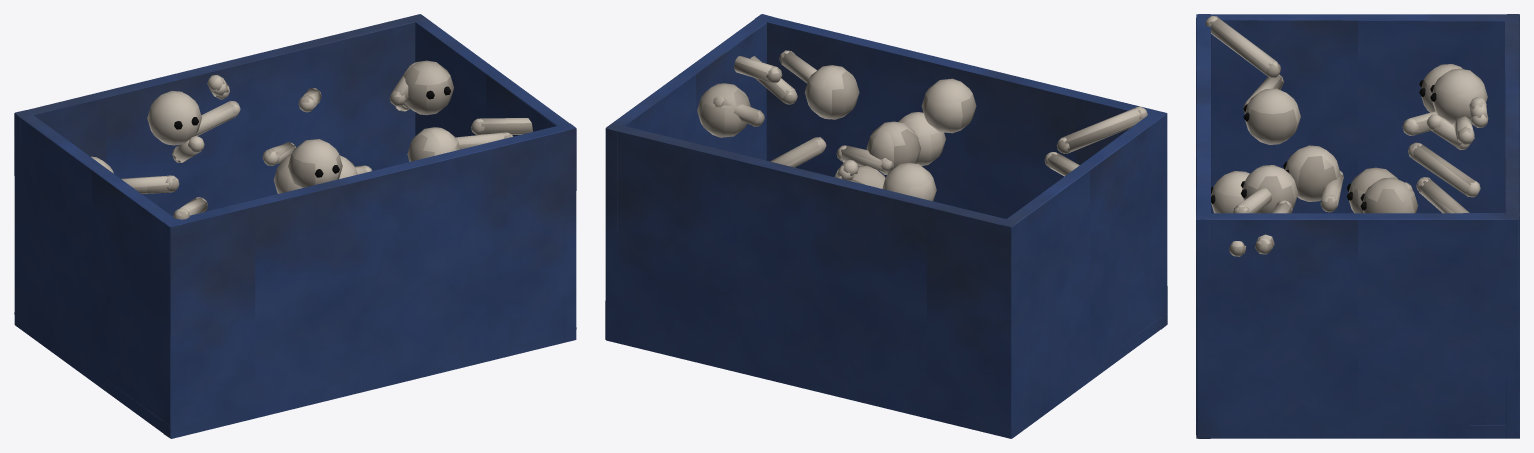
The model's file is F33_toy_parts_bin.glb.
The picture shows the model from 3 angles, left to right: view 1: azimuth 30°, elevation 25°; view 2: azimuth 150°, elevation 25°; view 3: azimuth 270°, elevation 25°; orthographic projection. The views are drawn at different scales.
Visible parts, largest first — view 1: F33_toy_parts_bin; view 2: F33_toy_parts_bin; view 3: F33_toy_parts_bin.
Part boxes in pixels (bbox=[...]): F33_toy_parts_bin: bbox=[14, 14, 576, 438]; F33_toy_parts_bin: bbox=[605, 14, 1167, 438]; F33_toy_parts_bin: bbox=[1196, 14, 1519, 438].
Size of the model in its own units: 0.6 by 0.3098 by 0.3874.
Materials: 3 (3 with a texture image).
